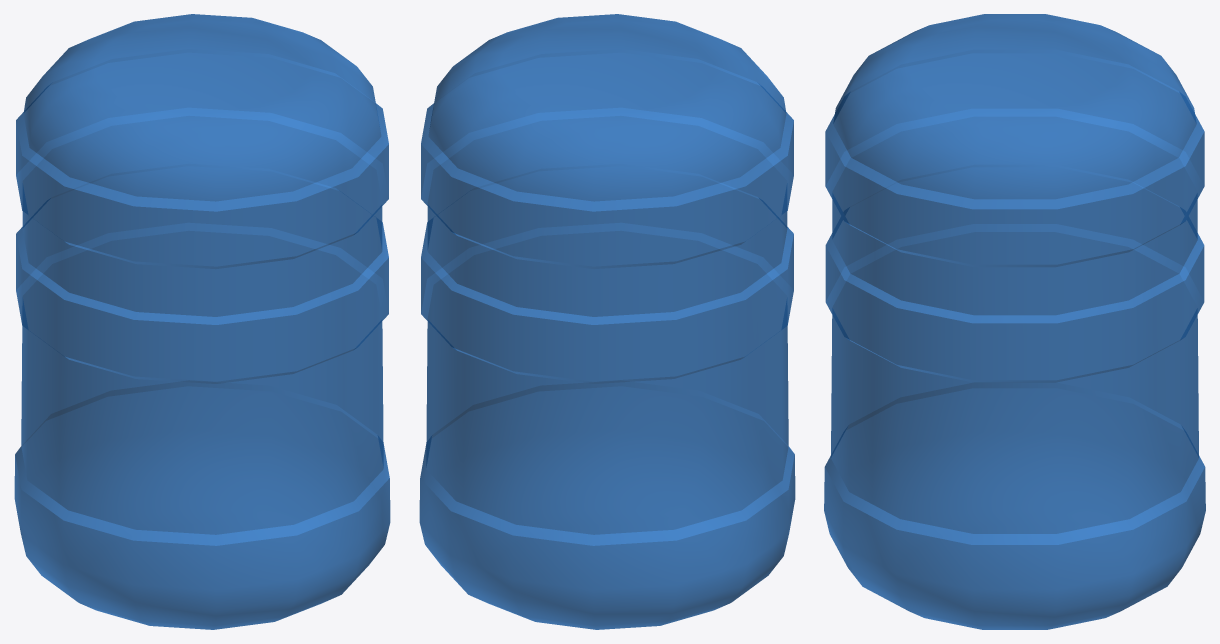
The model's file is Galon.obj.
3 renders of one model, left to right at view 1: azimuth 30°, elevation 25°; view 2: azimuth 150°, elevation 25°; view 3: azimuth 270°, elevation 25°, orthographic.
Visible parts, largest first — view 1: BluePlastic; view 2: BluePlastic; view 3: BluePlastic.
Part boxes in pixels (x1,y1,x2,y2): BluePlastic: [14, 14, 390, 629]; BluePlastic: [419, 14, 795, 629]; BluePlastic: [824, 14, 1205, 629].
Size of the model in its own units: 0.324 by 0.4897 by 0.3324.
